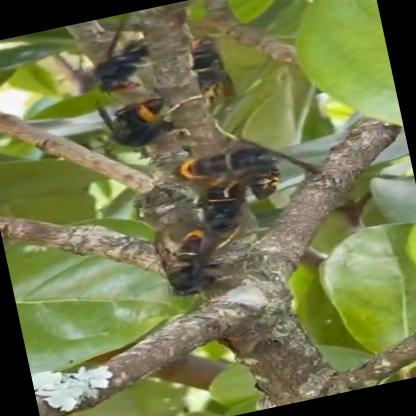bee: (174, 116, 302, 234), (118, 180, 210, 316), (168, 14, 257, 123), (88, 92, 188, 164), (68, 32, 152, 103)
